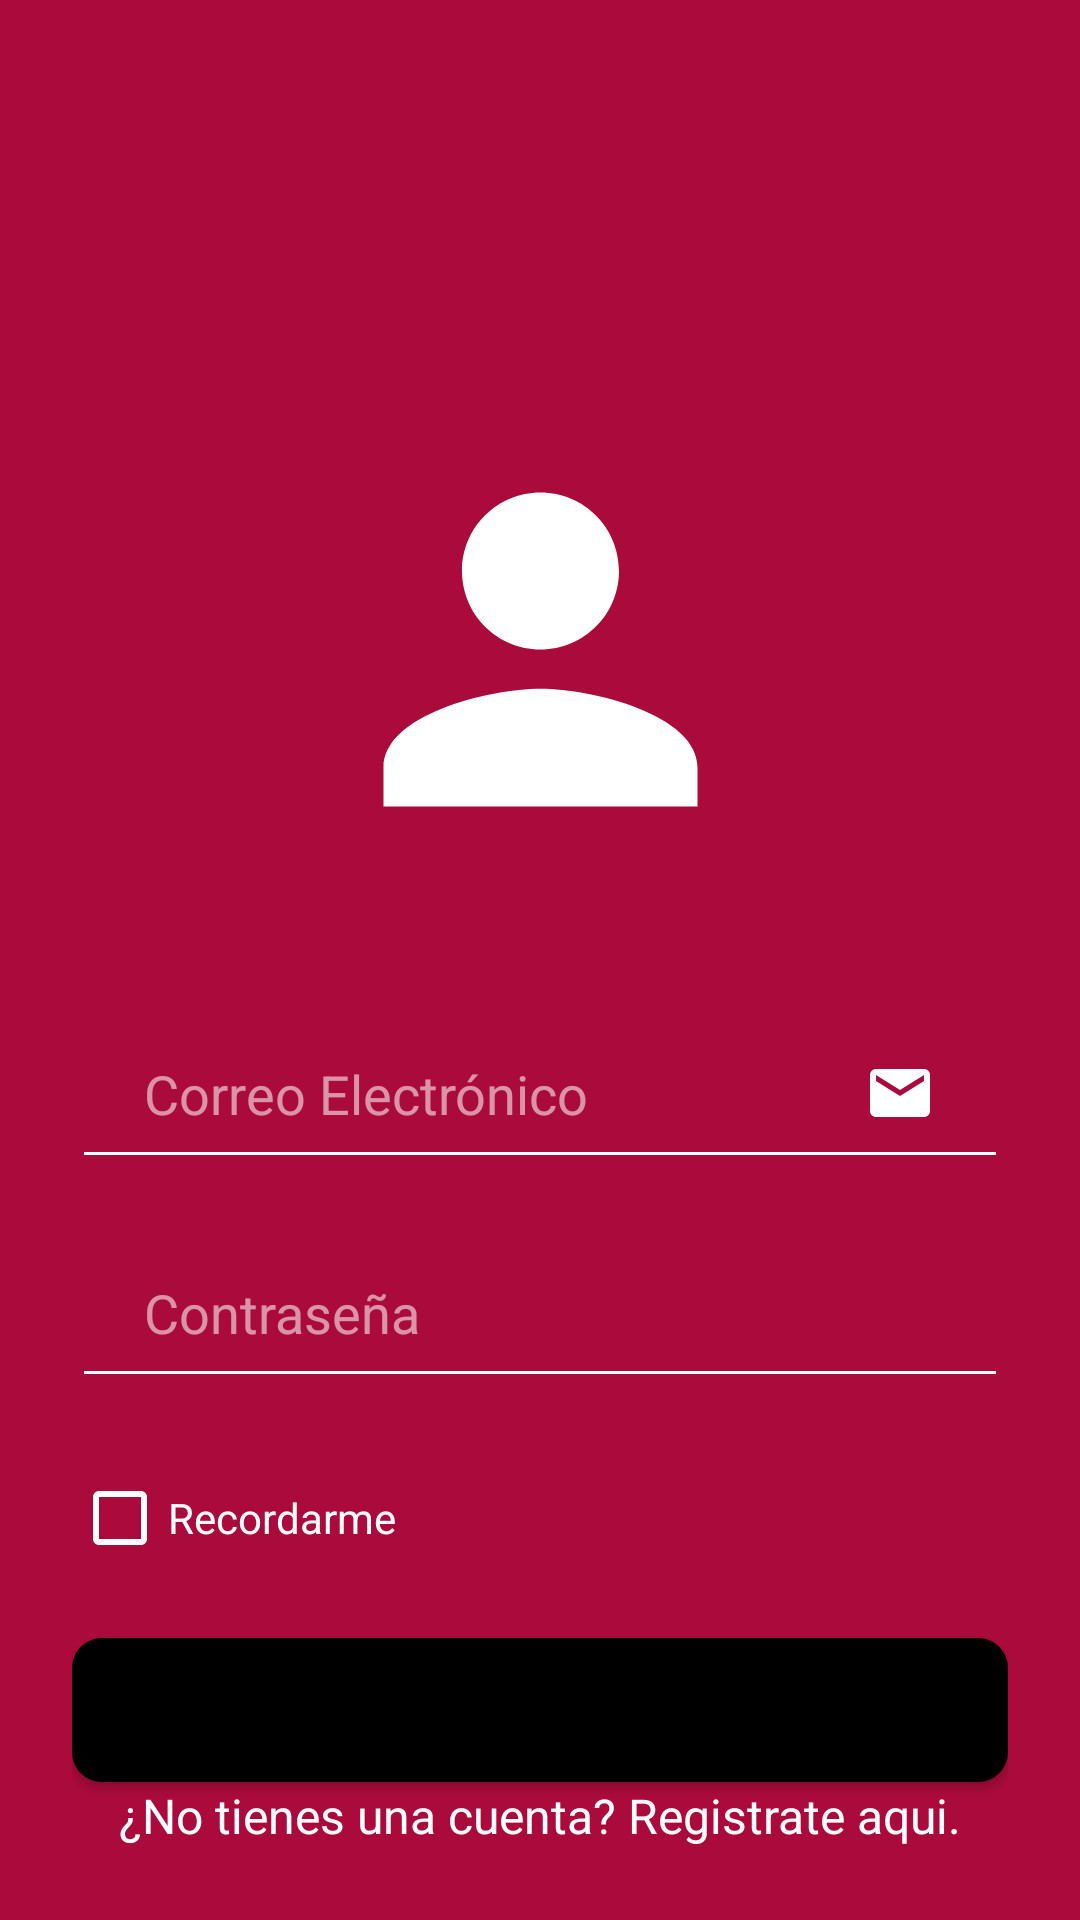

Named icons in this screenshot (1080x1920) and their centers, point (x, y):
usuario: point (540, 649)
